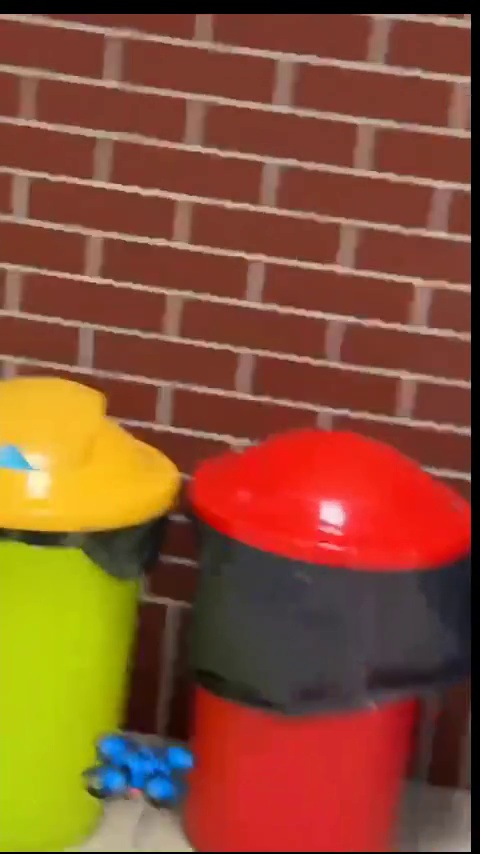drone: (86, 727, 198, 806)
